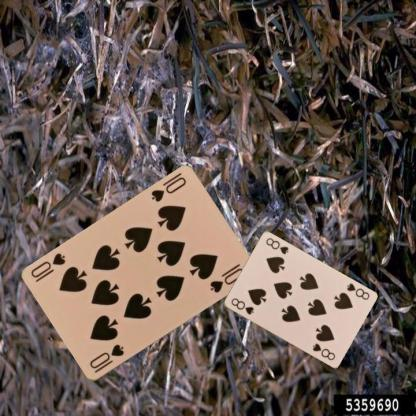10s: (87, 341, 126, 375), (148, 174, 187, 204)
8s: (228, 295, 255, 316), (344, 280, 370, 301)
